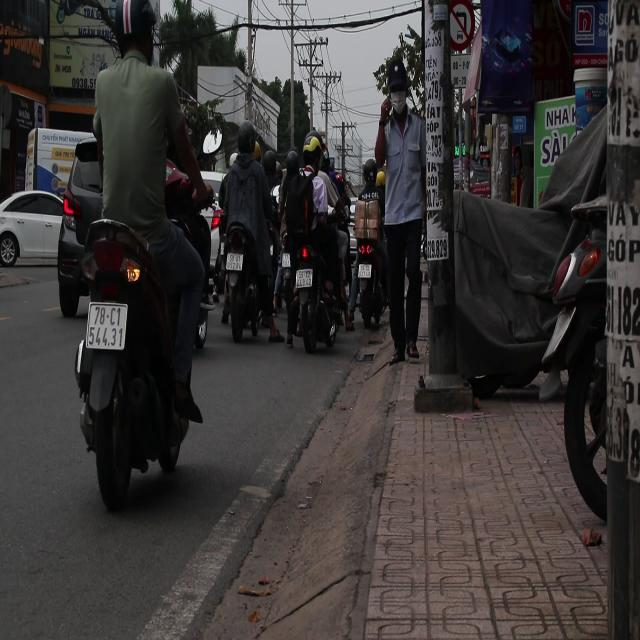car: (60, 136, 104, 308), (0, 190, 63, 268)
motorbike: (65, 198, 190, 492), (223, 217, 266, 355), (348, 193, 388, 331), (295, 253, 336, 370)
